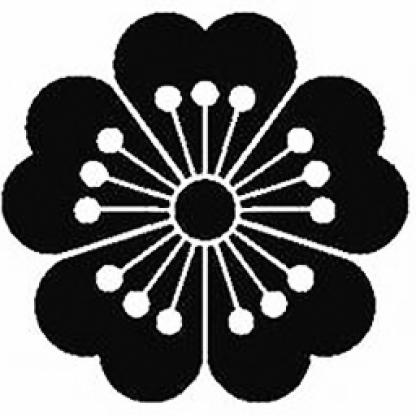kamon: (0, 8, 408, 403)
